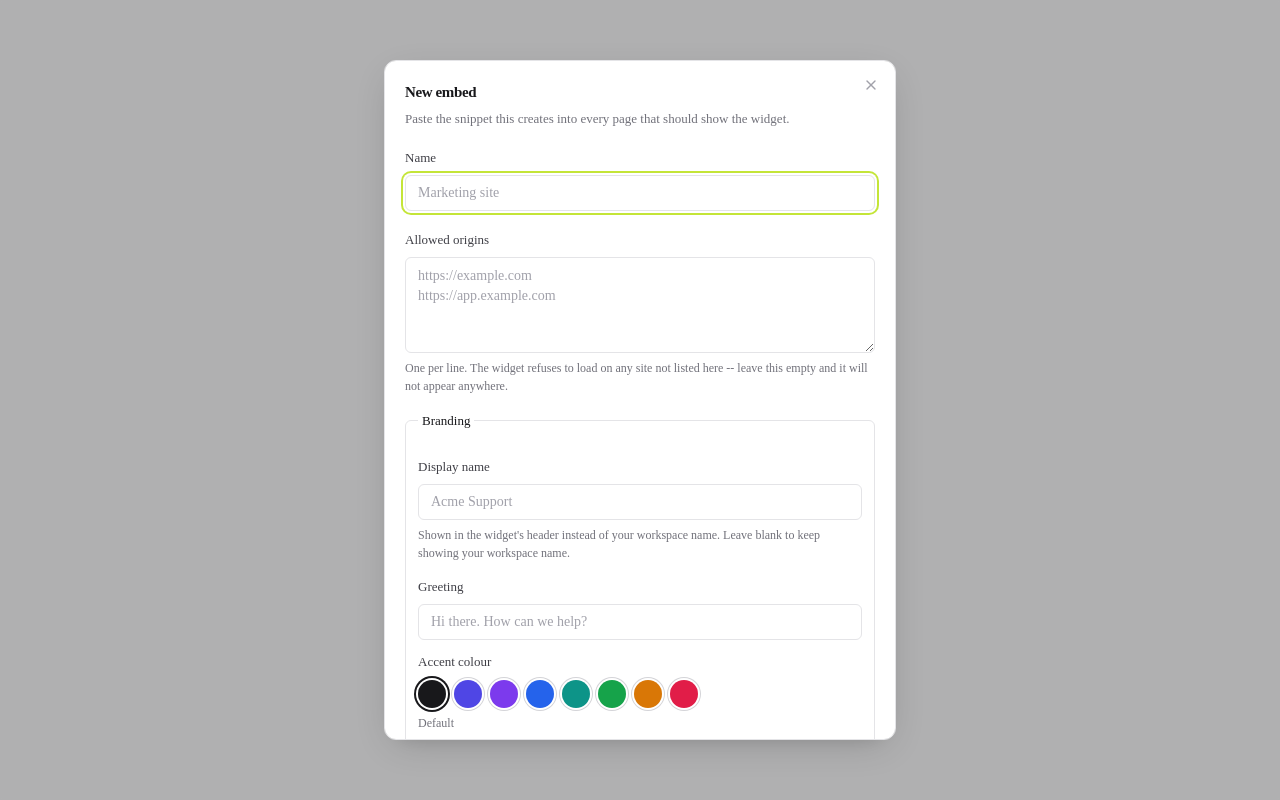
Test: WidgetKeyDialog branding section › cannot produce an invalid colour at all
This screenshot has width=1280, height=800.
In the field labelled "Name": coordinates (640, 193) [405, 175, 875, 211], type "Site"
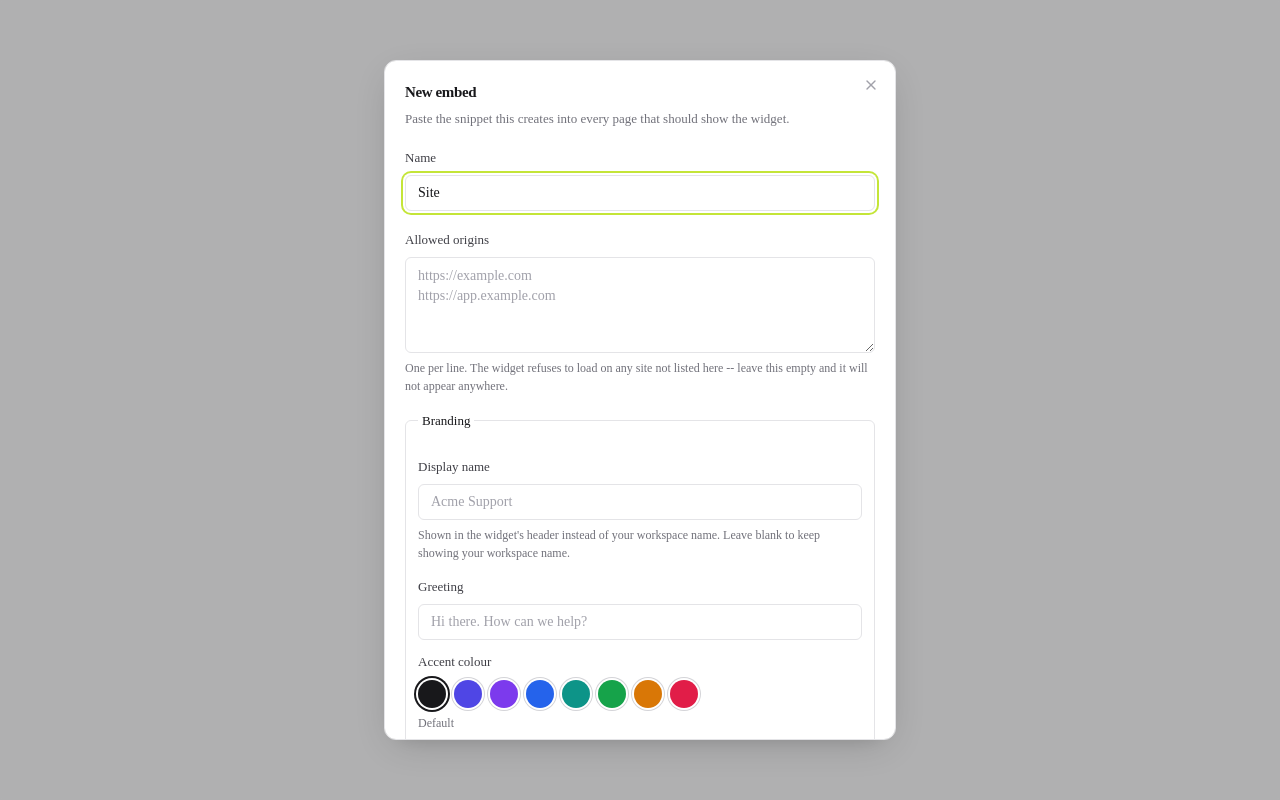
Click the radio button named "Amber": coordinates (648, 694) [634, 680, 662, 708]
(page scrolled)
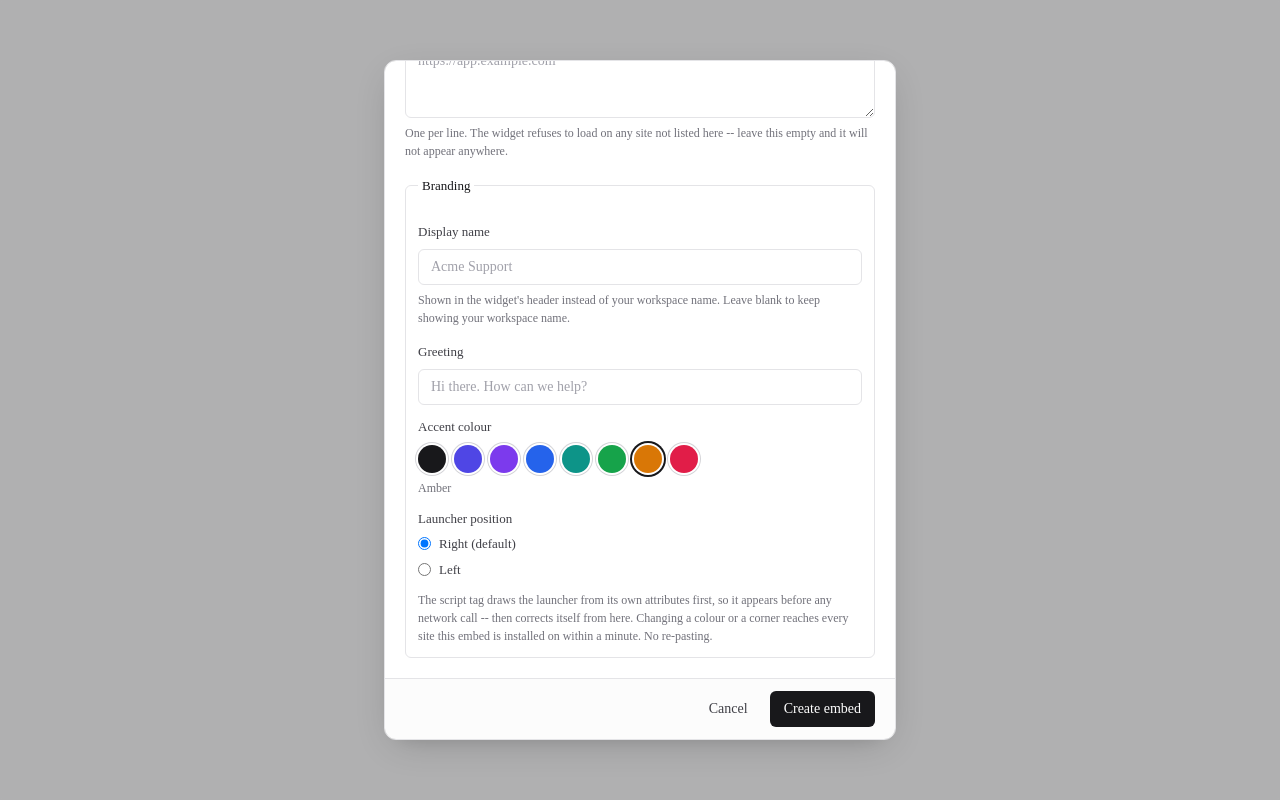
Now the button "Create embed" is enabled, box [770, 691, 875, 727]
